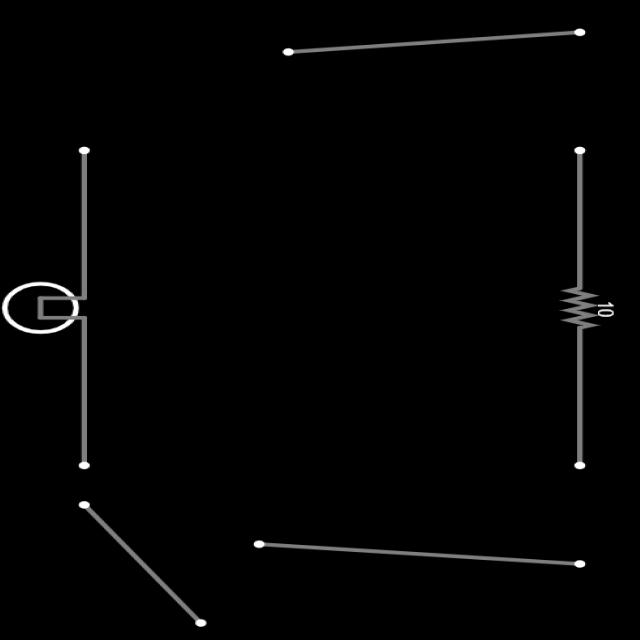Light Bulb: (1, 282, 83, 334)
Resistor: (559, 288, 597, 329)
Wire: (78, 501, 205, 626), (253, 540, 584, 568), (282, 29, 584, 56), (77, 146, 88, 300), (76, 316, 87, 469), (574, 326, 584, 468), (575, 149, 583, 288)
